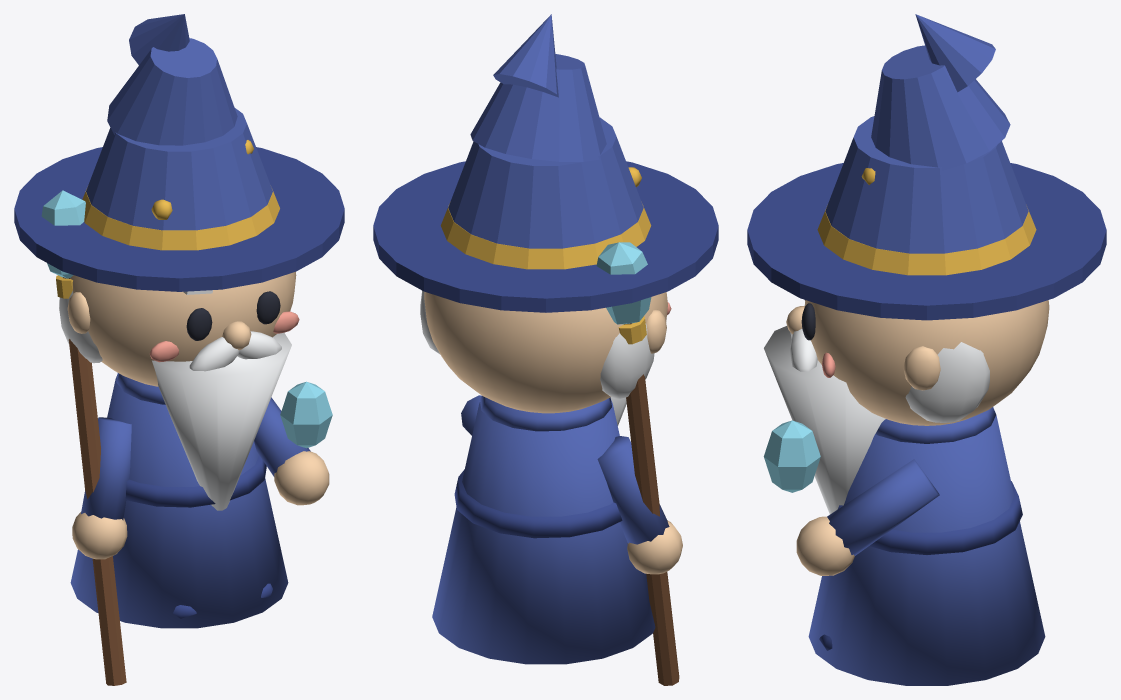
The model's file is npc_wizard.glb.
3 renders of one model, left to right at view 1: azimuth 30°, elevation 25°; view 2: azimuth 150°, elevation 25°; view 3: azimuth 270°, elevation 25°, orthographic. The views are drawn at different scales.
Parts seen in each view (by area): view 1: robe, hat_brim, hat_lower, head_ball, beard, hat_mid, staff, hat_band, arm_0, orb_crystal, robe_sash, hand_1 (+12 smaller); view 2: robe, hat_brim, head_ball, hat_lower, hat_mid, staff, hat_band, robe_sash, arm_0, hat_tip, torso_top, hair_side_0 (+3 smaller); view 3: robe, hat_brim, hat_lower, head_ball, hat_mid, beard, hat_band, arm_1, hair_side_1, robe_sash, hat_tip, orb_crystal (+4 smaller).
Part boxes in pixels (<box>): robe: <box>70,375,288,628</box>; hat_brim: <box>14,147,344,291</box>; hat_lower: <box>86,108,272,230</box>; head_ball: <box>70,271,296,386</box>; beard: <box>152,332,291,510</box>; hat_mid: <box>107,38,237,145</box>; staff: <box>63,277,126,685</box>; hat_band: <box>82,189,279,250</box>; arm_0: <box>81,417,131,520</box>; orb_crystal: <box>280,381,332,448</box>; robe_sash: <box>125,455,266,507</box>; hand_1: <box>274,451,329,505</box>; robe: <box>432,400,655,664</box>; hat_brim: <box>373,161,718,312</box>; head_ball: <box>424,292,667,413</box>; hat_lower: <box>448,117,643,248</box>; hat_mid: <box>470,54,606,161</box>; staff: <box>624,323,679,685</box>; hat_band: <box>440,204,651,269</box>; robe_sash: <box>454,469,622,538</box>; arm_0: <box>597,436,669,544</box>; hat_tip: <box>493,14,558,97</box>; torso_top: <box>480,396,611,431</box>; hair_side_0: <box>600,323,654,398</box>; robe: <box>808,407,1045,685</box>; hat_brim: <box>747,163,1106,320</box>; hat_lower: <box>825,116,1028,253</box>; head_ball: <box>804,300,1049,425</box>; hat_mid: <box>871,45,1010,170</box>; beard: <box>764,326,885,514</box>; hat_band: <box>817,208,1036,275</box>; arm_1: <box>827,459,939,555</box>; hair_side_1: <box>905,342,989,422</box>; robe_sash: <box>838,481,1022,554</box>; hat_tip: <box>915,14,995,92</box>; orb_crystal: <box>763,420,820,492</box>.
Size of the model in its own units: 0.88 by 1.86 by 0.88.
